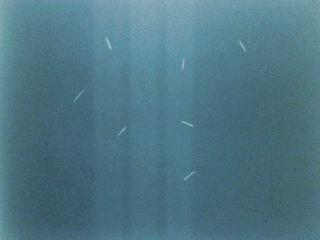scratch: (71, 82, 91, 105), (183, 167, 199, 182), (114, 124, 129, 139), (237, 38, 248, 54), (103, 35, 113, 52), (180, 119, 194, 128), (180, 57, 187, 74)
